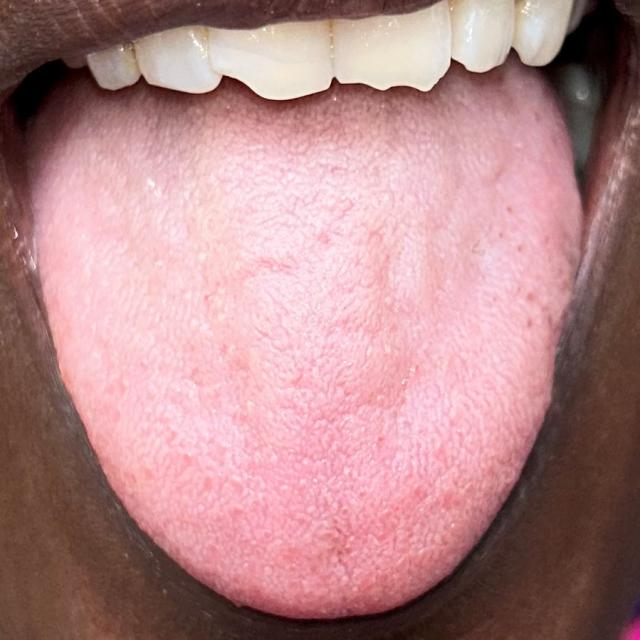processing_area: (25, 52, 583, 611)
